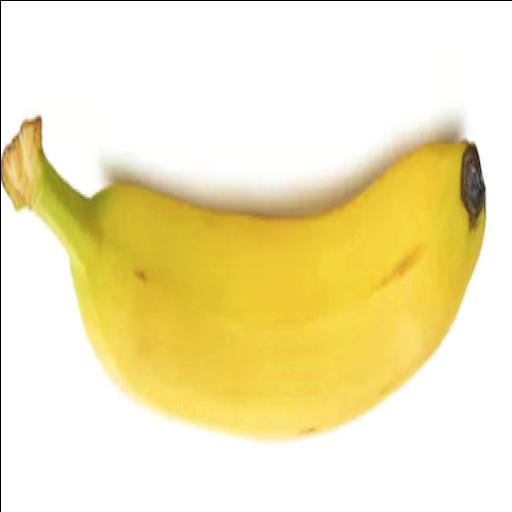banana: (1, 118, 485, 440)
